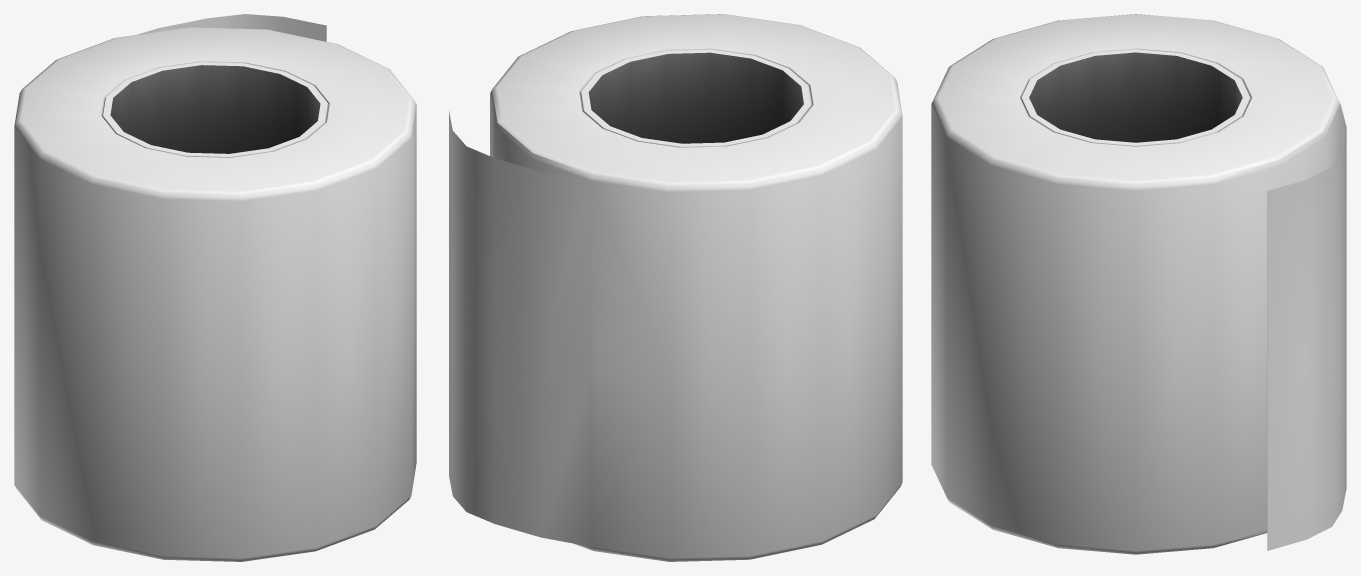
Rendered from ToiletPapaer.obj.
The picture shows the model from 3 angles, left to right: view 1: azimuth 30°, elevation 25°; view 2: azimuth 150°, elevation 25°; view 3: azimuth 270°, elevation 25°; orthographic projection. The views are drawn at different scales.
Parts seen in each view (by area): view 1: Cylinder; view 2: Cylinder; view 3: Cylinder.
Part boxes in pixels (bbox=[...]): Cylinder: bbox=[14, 14, 416, 561]; Cylinder: bbox=[449, 14, 902, 561]; Cylinder: bbox=[931, 14, 1346, 554].
Size of the model in its own units: 2.28 by 2.15 by 2.17.
